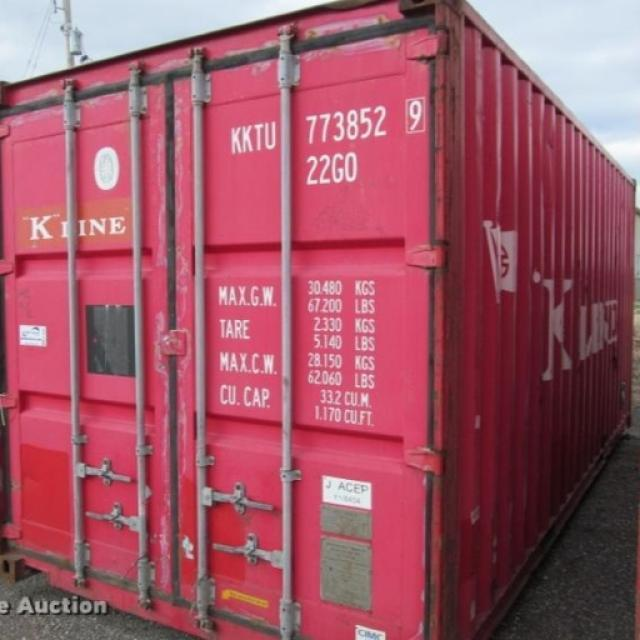ISO: (304, 152, 360, 185)
container_number: (230, 108, 422, 146)
